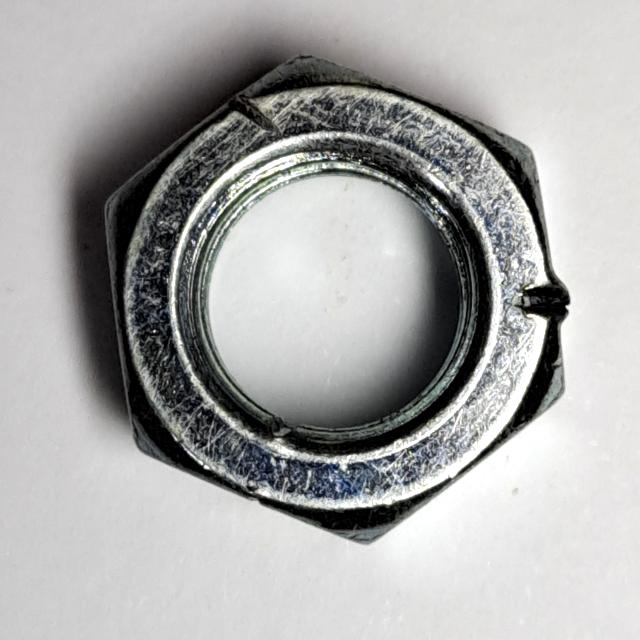Scratches: (87, 34, 584, 561)
